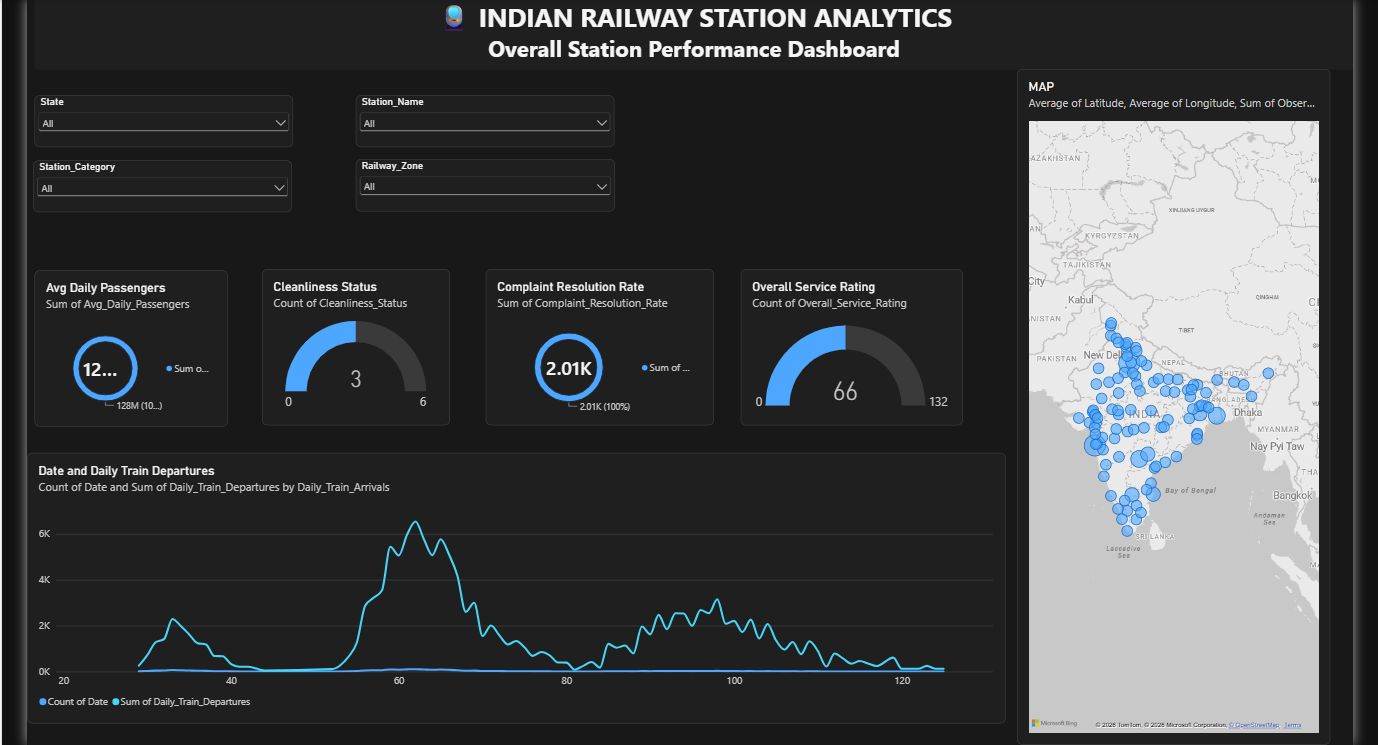

Layout of this report page (visuals, bound fields, positions):
{"tool":"powerbi","page":{"name":"Overall Dashboard","canvas":[1920,1080],"ordinal":0},"visuals":[{"type":"textbox","box":[10.2,0,1909.8,102.1],"z":0},{"type":"slicer","fields":{"Values":["Station_Monthly_Data.State"]},"box":[10.8,138.9,374.7,74.9],"z":1000},{"type":"slicer","fields":{"Values":["Station_Monthly_Data.Station_Name"]},"box":[475.4,138.9,374.7,74.9],"z":2000},{"type":"slicer","fields":{"Values":["Station_Monthly_Data.Railway_Zone"]},"box":[475.4,231.5,375,75.6],"z":3000},{"type":"slicer","fields":{"Values":["Station_Monthly_Data.Station_Category"]},"box":[9.3,233.1,374.7,74.9],"z":4000},{"type":"lineChart","title":"Date and Daily Train Departures","fields":{"Category":["Station_Monthly_Data.Daily_Train_Arrivals"],"Y":["CountNonNull(Station_Monthly_Data.Date)","Sum(Station_Monthly_Data.Daily_Train_Departures)"]},"box":[0,656.4,1416.8,392],"z":5000},{"type":"map","title":"MAP","fields":{"Category":["Station_Monthly_Data.City","Station_Monthly_Data.State"],"Size":["Sum(Station_Monthly_Data.Observation_Month)"],"X":["Avg(Station_Monthly_Data.Longitude)"],"Y":["Avg(Station_Monthly_Data.Latitude)"]},"box":[1433.8,101.9,453.8,978.5],"z":6000},{"type":"donutChart","title":"Avg Daily Passengers","fields":{"Y":["Sum(Station_Monthly_Data.Avg_Daily_Passengers)"]},"box":[10,392,280,226],"z":7000},{"type":"gauge","title":"Cleanliness Status","fields":{"Y":["Count(Station_Monthly_Data.Cleanliness_Status)"]},"box":[340,391.7,271.7,226.7],"z":8000},{"type":"donutChart","title":"Complaint Resolution Rate","fields":{"Y":["Sum(Station_Monthly_Data.Complaint_Resolution_Rate)"]},"box":[663.3,391.7,330,226.7],"z":9000},{"type":"gauge","title":"Overall Service Rating","fields":{"Y":["Count(Station_Monthly_Data.Overall_Service_Rating)"]},"box":[1033.3,391.7,321.7,226.7],"z":10000}]}

Visuals, with their boxes on the page's 1920x1080 design canvas (x1, y1, x2, y2). These are canvas units, not pixel positions in the 1378x745 screenshot, which may show the page scaled, cropped or inside an application window:
textbox: left=10, top=0, right=1920, bottom=102
slicer - Station_Monthly_Data.State: left=11, top=139, right=386, bottom=214
slicer - Station_Monthly_Data.Station_Name: left=475, top=139, right=850, bottom=214
slicer - Station_Monthly_Data.Railway_Zone: left=475, top=232, right=850, bottom=307
slicer - Station_Monthly_Data.Station_Category: left=9, top=233, right=384, bottom=308
"Date and Daily Train Departures" lineChart: left=0, top=656, right=1417, bottom=1048
"MAP" map: left=1434, top=102, right=1888, bottom=1080
"Avg Daily Passengers" donutChart: left=10, top=392, right=290, bottom=618
"Cleanliness Status" gauge: left=340, top=392, right=612, bottom=618
"Complaint Resolution Rate" donutChart: left=663, top=392, right=993, bottom=618
"Overall Service Rating" gauge: left=1033, top=392, right=1355, bottom=618
